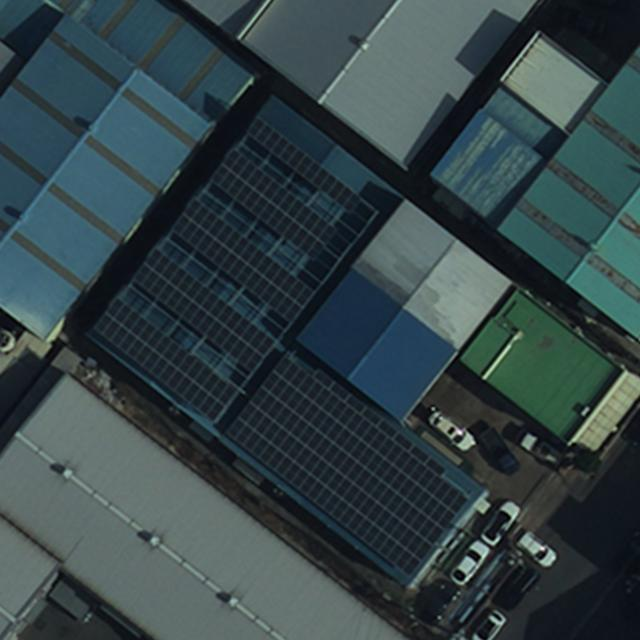panel: (232, 353, 470, 573), (92, 299, 236, 429), (131, 248, 277, 376), (171, 199, 311, 328), (213, 147, 342, 266), (244, 112, 378, 221)
